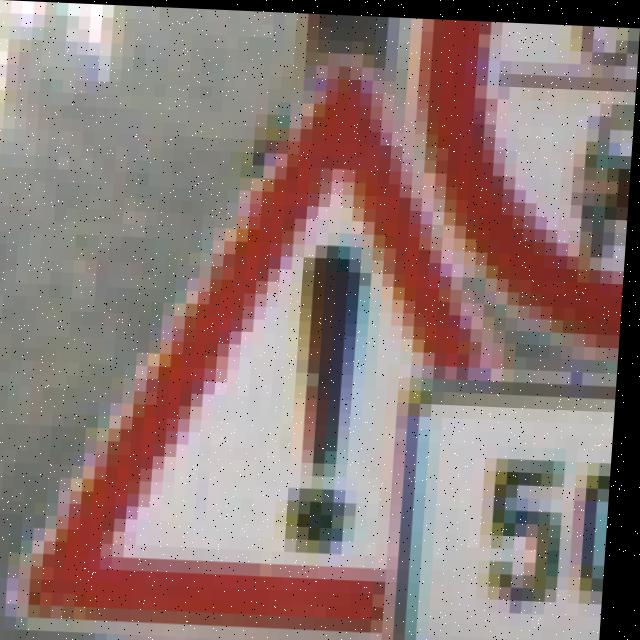speed_limit_50: (437, 392, 615, 640)
warning: (66, 105, 407, 640)
